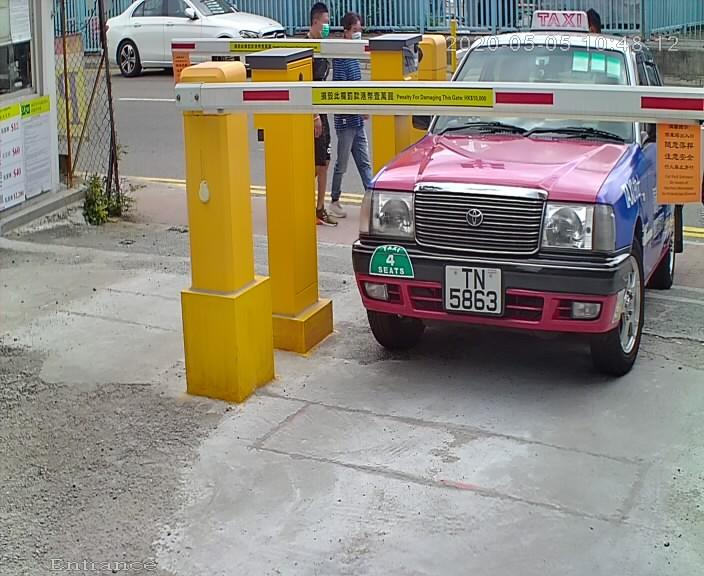Car: (311, 4, 704, 418)
License Plate: (441, 260, 510, 322)
